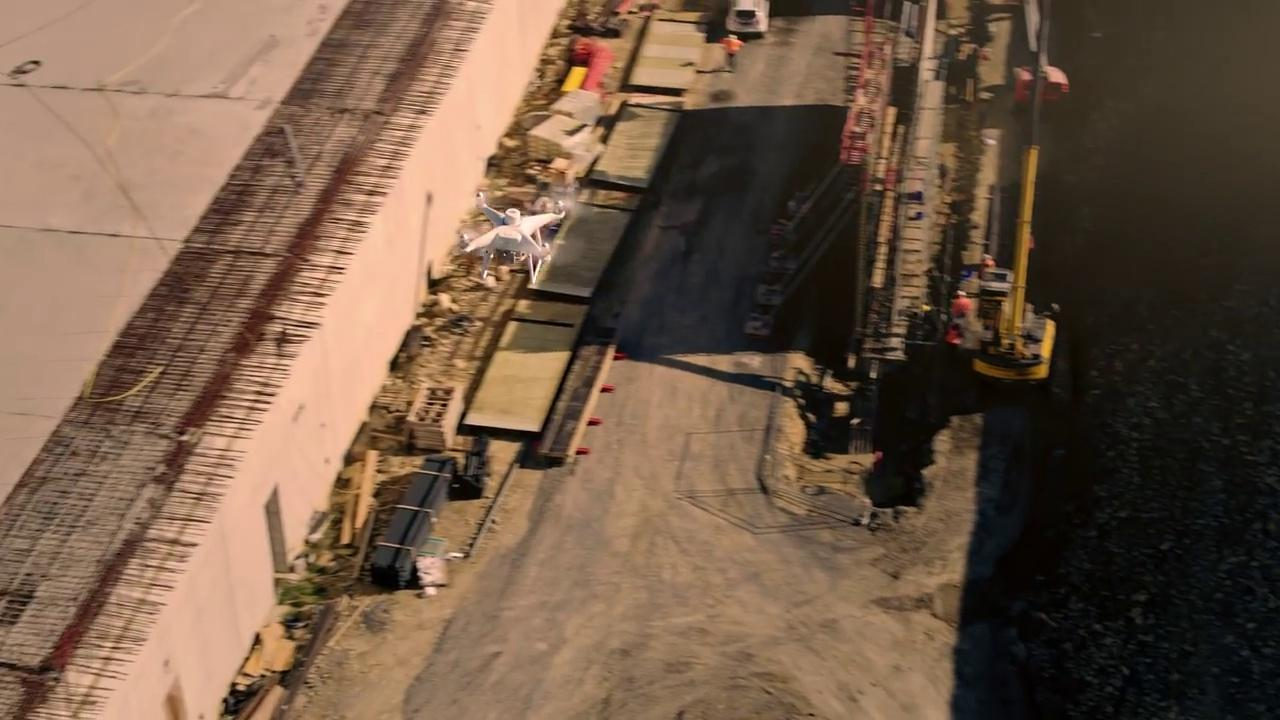drone: (446, 186, 579, 273)
